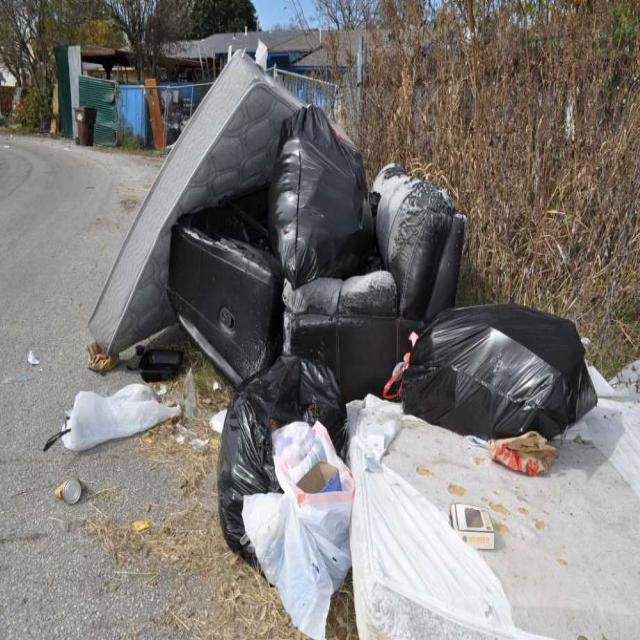plastic_bag: (379, 279, 596, 431), (224, 363, 343, 586), (278, 107, 373, 262), (385, 153, 471, 299)
